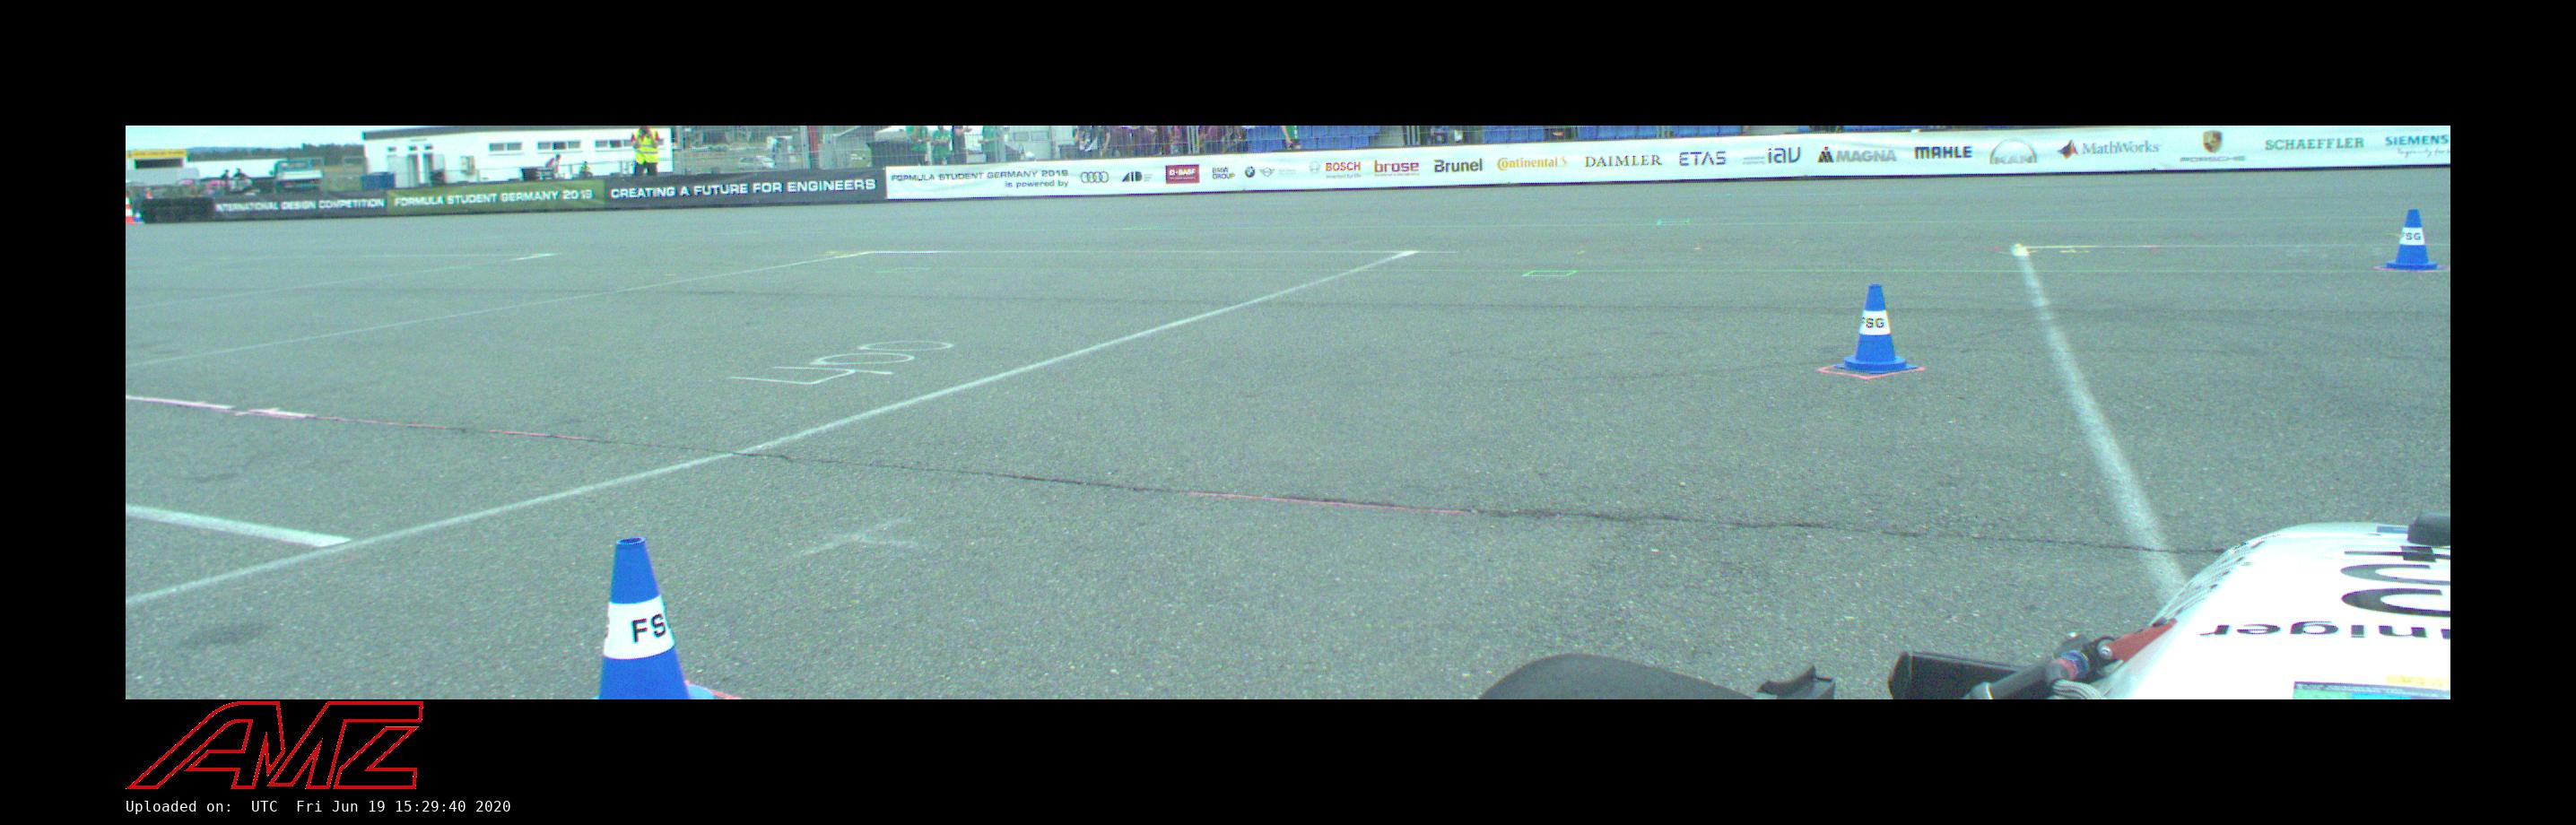blue_cone: (589, 536, 716, 699), (1834, 283, 1919, 374), (2380, 209, 2442, 270)
